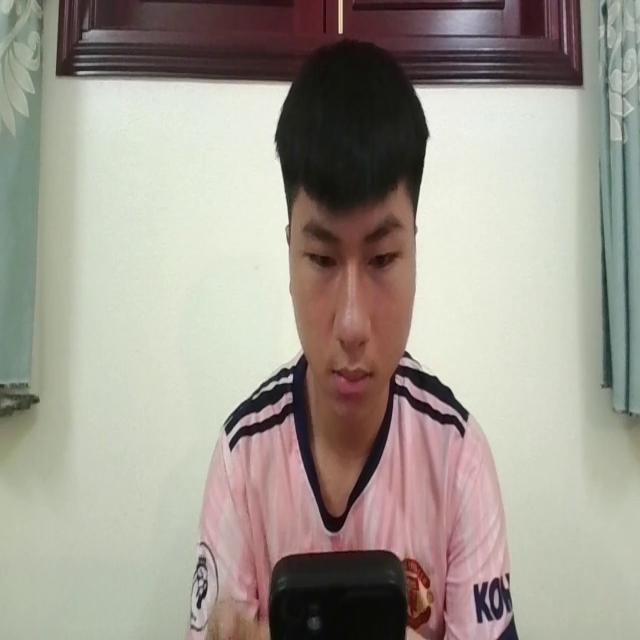phone: (266, 544, 405, 640)
student: (188, 41, 512, 640)
